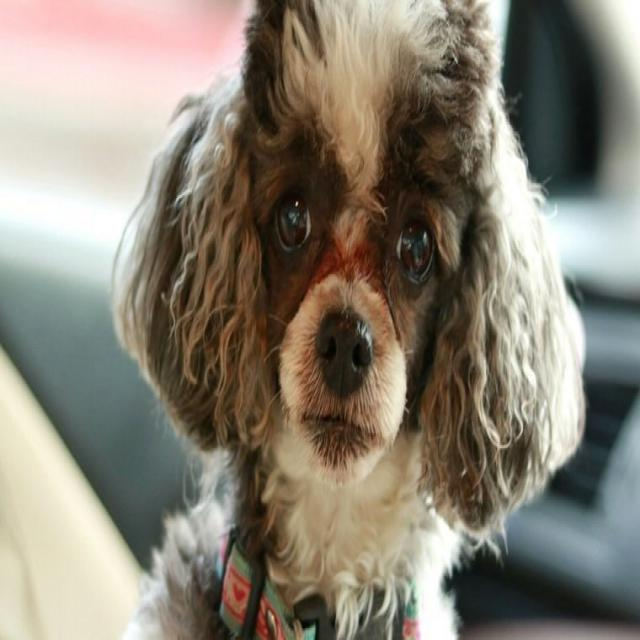eye: (392, 206, 440, 295), (267, 181, 316, 268)
